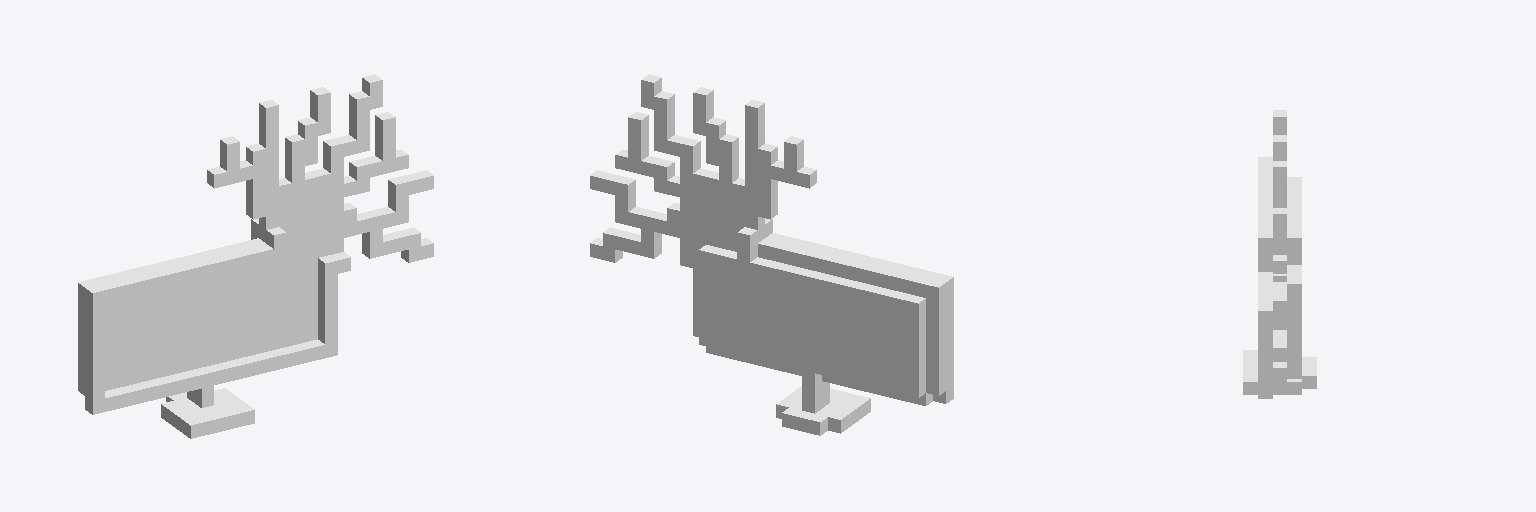
The model's file is MONITOR_evolved.obj.
The picture shows the model from 3 angles: view 1: azimuth 30°, elevation 25°; view 2: azimuth 150°, elevation 25°; view 3: azimuth 270°, elevation 25°; orthographic projection.
Parts seen in each view (by area): view 1: object 1; view 2: object 1; view 3: object 1.
Part boxes in pixels (bbox=[...]): object 1: bbox=[78, 74, 433, 438]; object 1: bbox=[590, 74, 953, 435]; object 1: bbox=[1243, 110, 1316, 398].
Size of the model in its own units: 2.7 by 2.2 by 0.5.